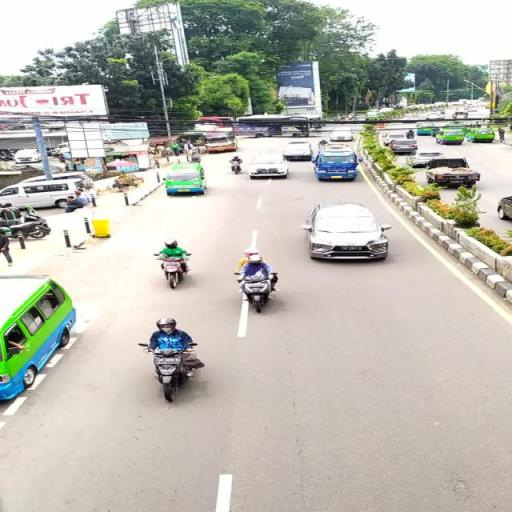Helmet: (157, 318, 176, 336), (247, 249, 262, 269), (164, 237, 178, 251)
Motor: (149, 348, 187, 402), (240, 278, 272, 312), (162, 261, 186, 289)
